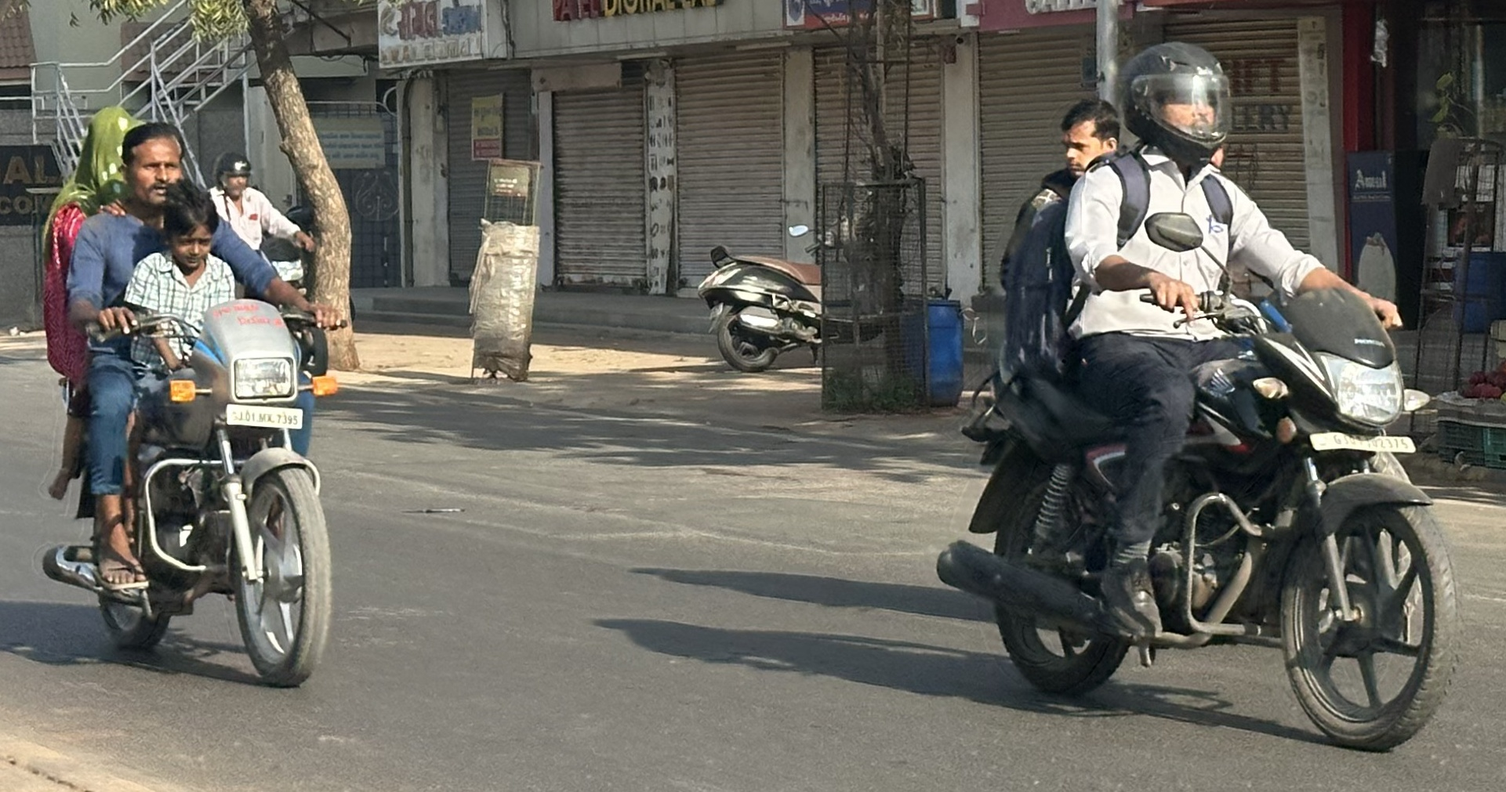BikeWithRider: (923, 28, 1468, 760), (29, 99, 354, 696)
Helmet: (1119, 31, 1242, 174)
NoHelmet: (110, 120, 201, 222), (1047, 89, 1130, 186), (151, 183, 227, 274), (79, 99, 151, 180)
